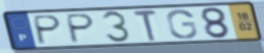3: (100, 10, 132, 45)
8: (199, 6, 232, 40)
G: (166, 9, 200, 40)
P: (33, 14, 64, 46), (66, 12, 97, 44)
T: (131, 9, 160, 42)
